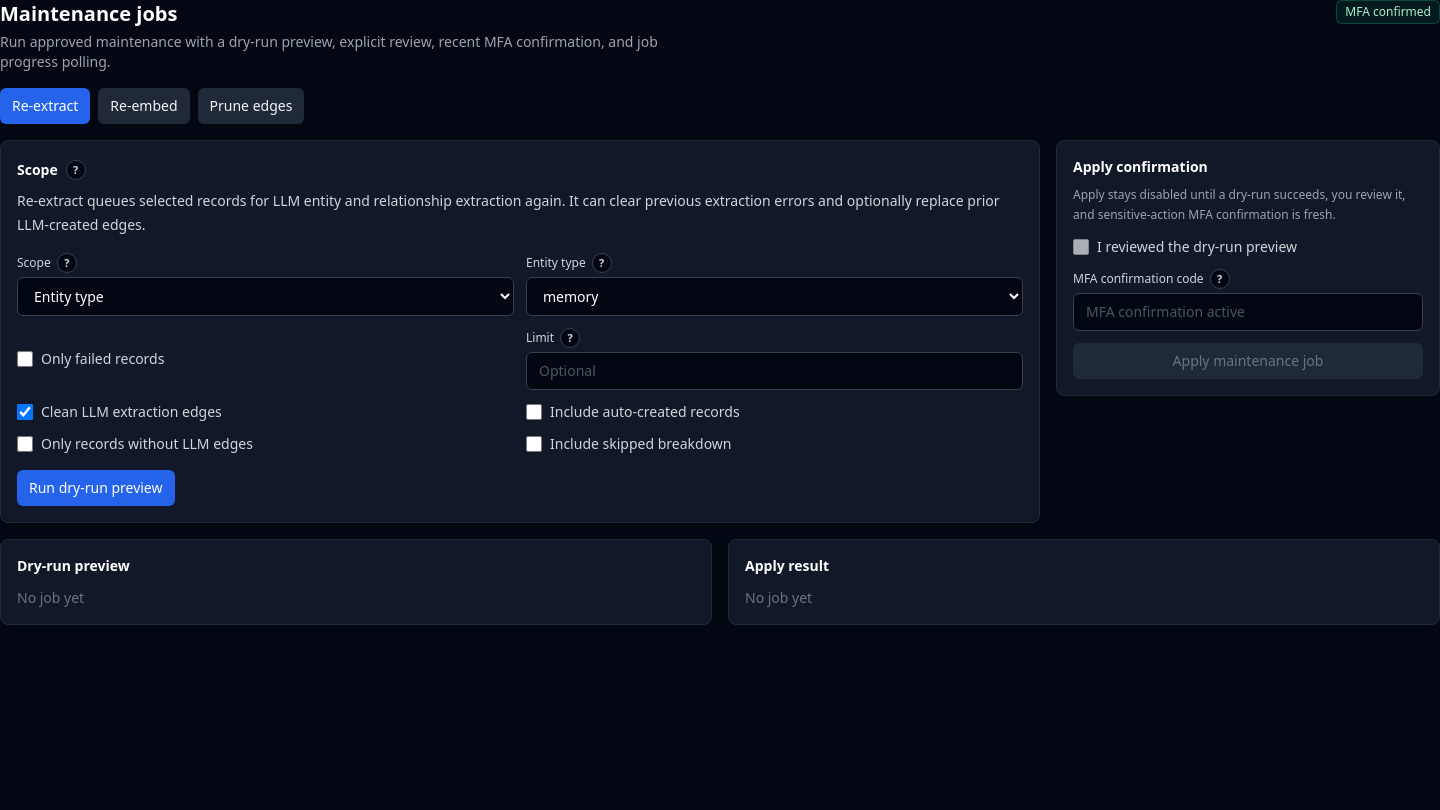
Test: AdminMaintenance › retains failed job evidence while rendering only safe result summary fields
The image size is (1440, 810).
Step 1. Click the button "Run dry-run preview" → [96, 488], box [17,470,174,506]
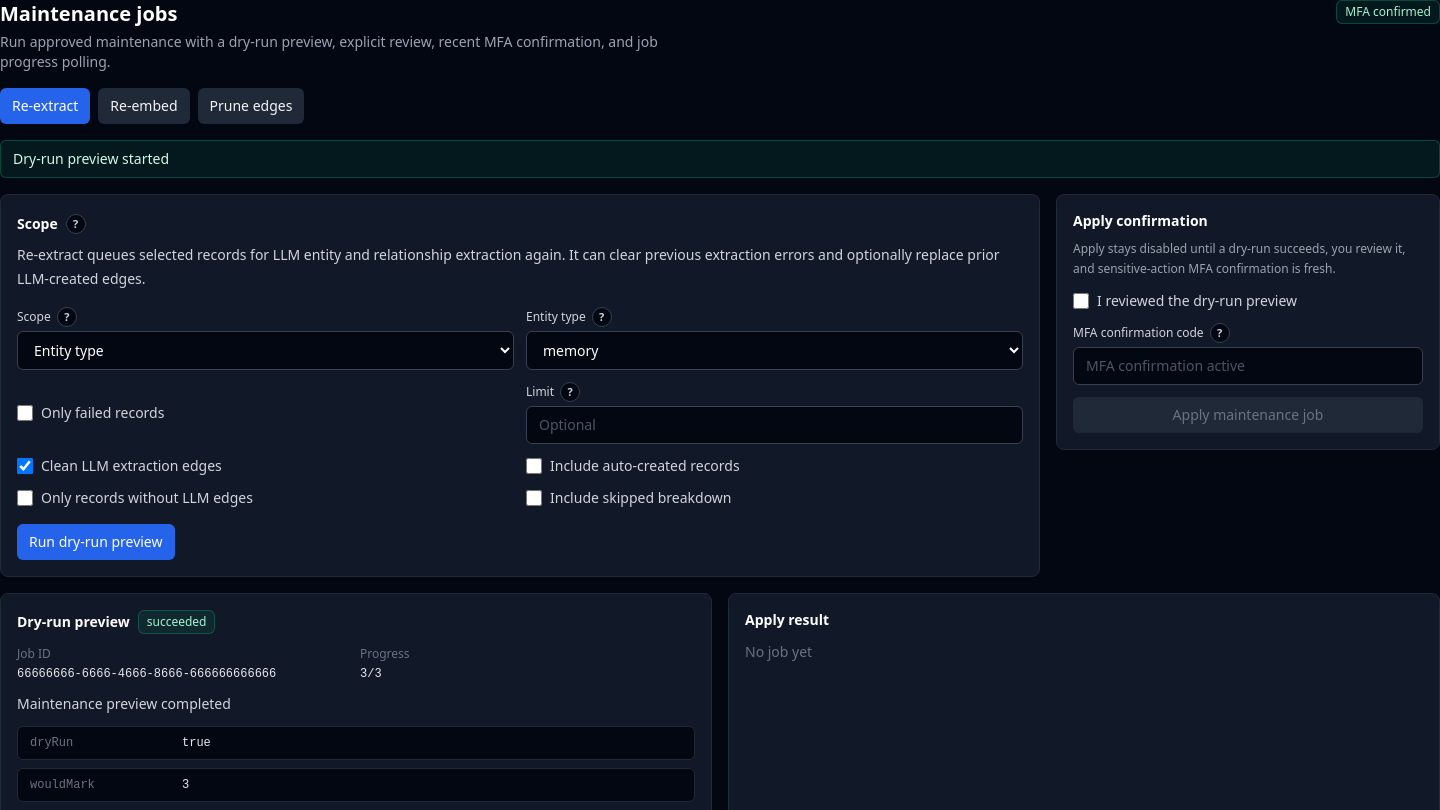
Step 2. Click the checkbox labelled "I reviewed the dry-run preview" → [1081, 301], box [1073,293,1089,309]
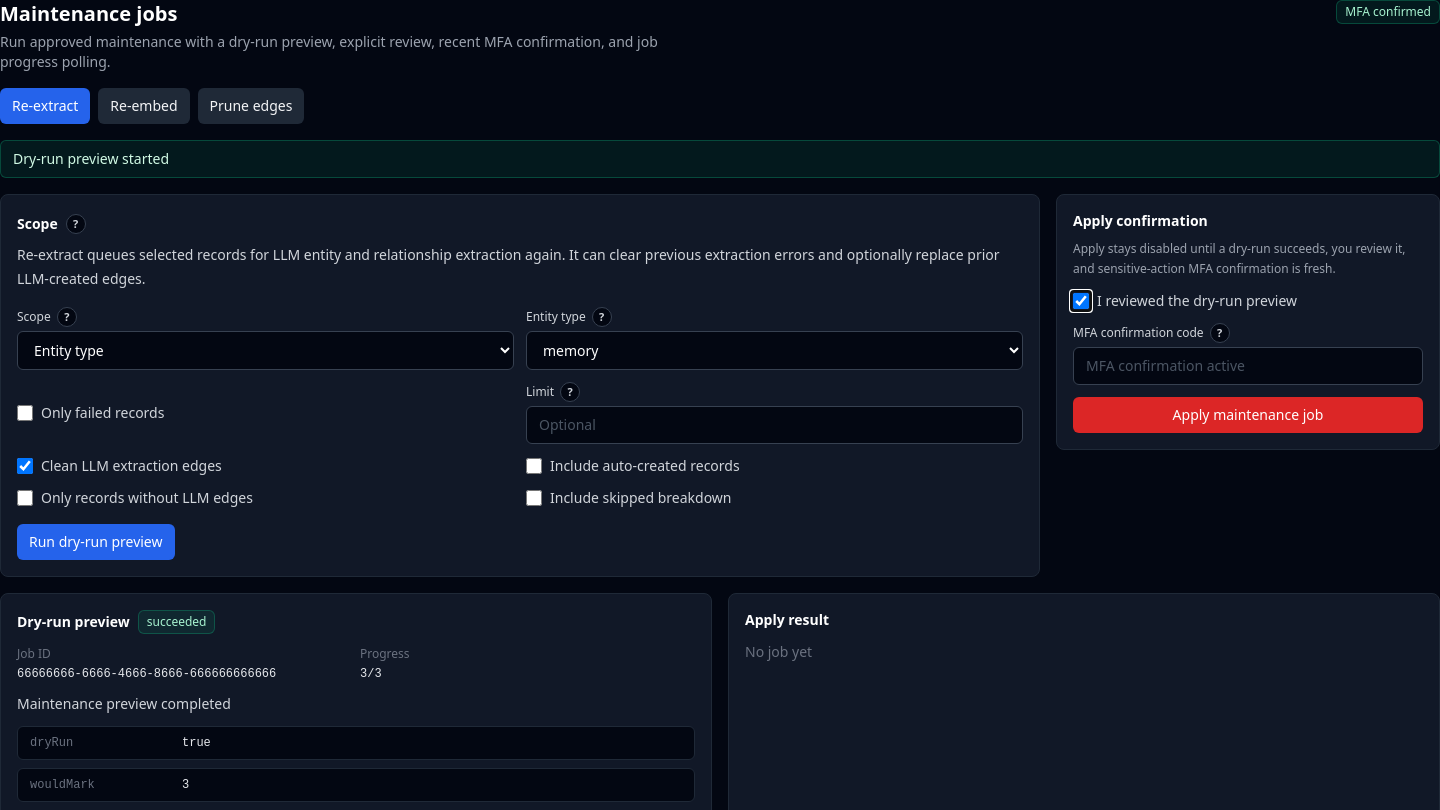
Step 3. Click the button "Apply maintenance job" → [1248, 415], box [1073,397,1423,433]
Wait 2000 ms
(page scrolled)
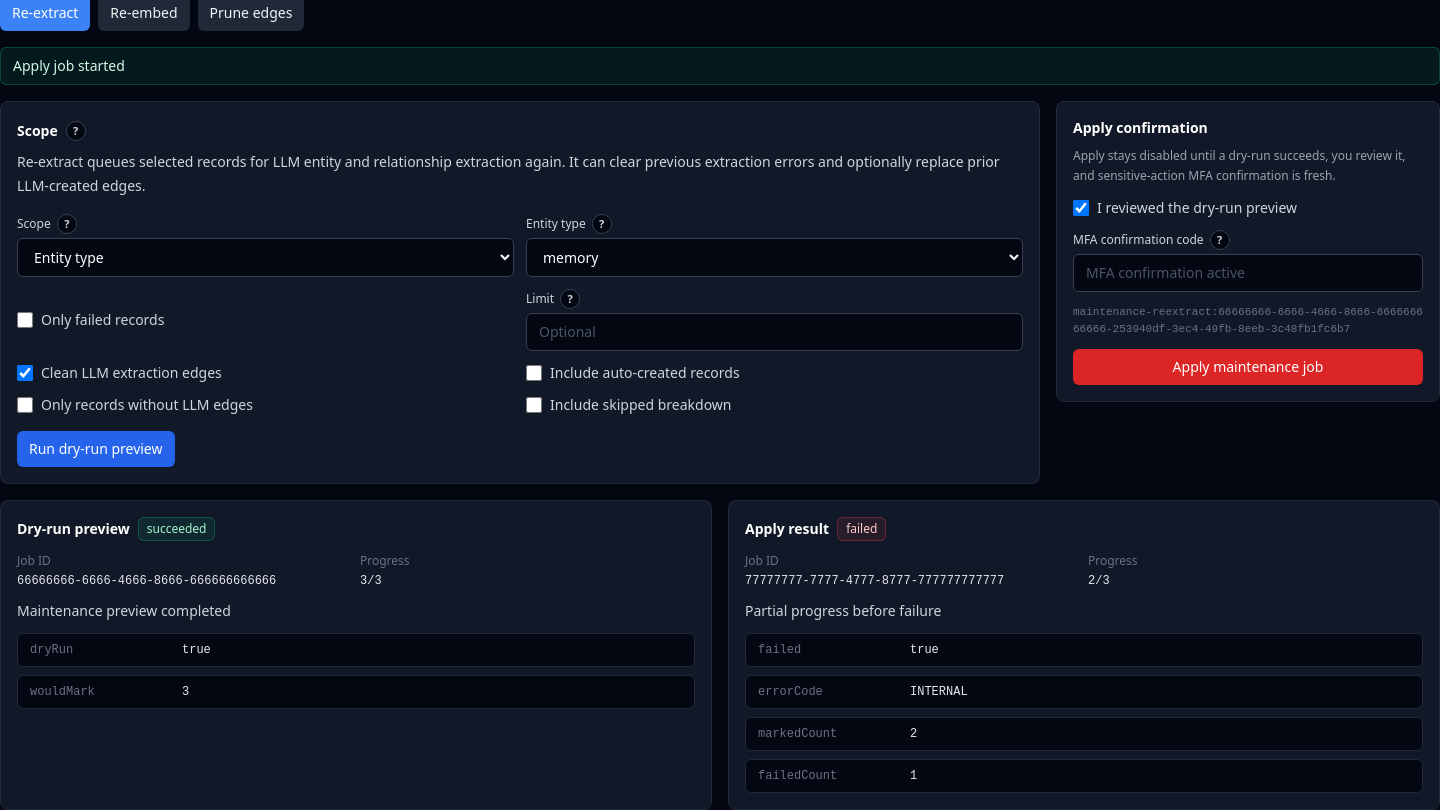
Expected: the text "Apply job started" is shown, [0,47,1439,85]
Expected: the text "Partial progress before failure" is shown, [745,601,941,620]
Expected: the text "failed" next to "Apply result" is shown, [846,520,877,537]
